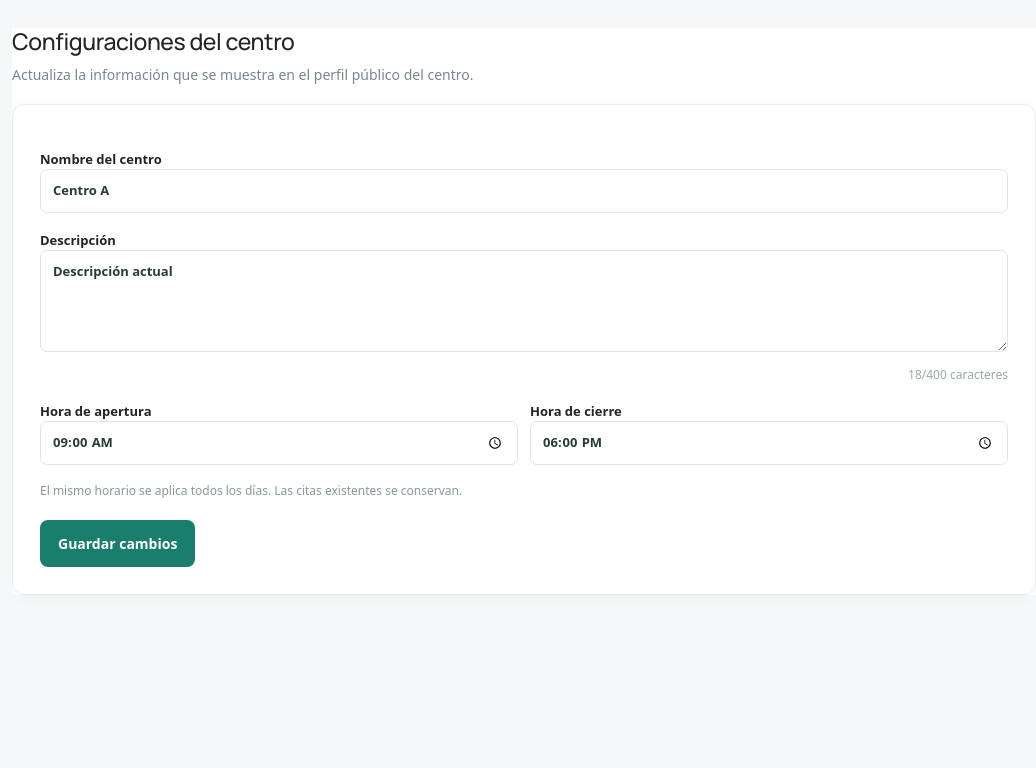
Test: keeps unsaved edits after a server error so the administrator can retry
Replace the text in the field labelled "Nombre del centro" with "Mi edición": point(524, 191) [40,169,1008,213]
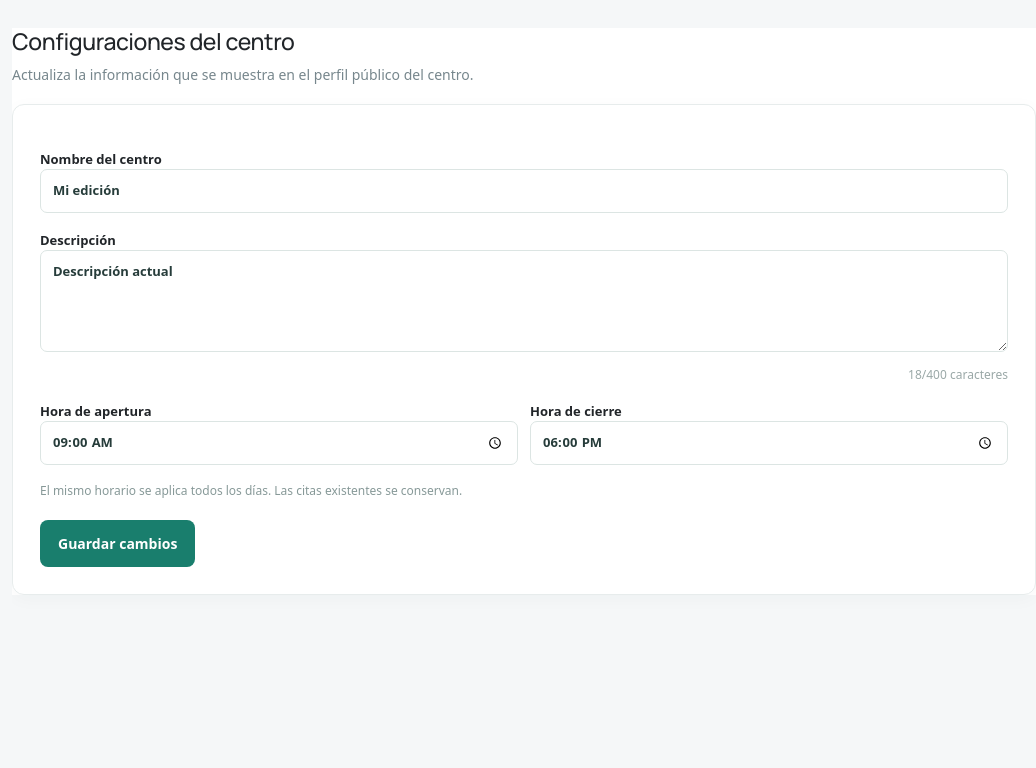
Click the button "Guardar cambios": point(118, 543) [40,520,195,567]
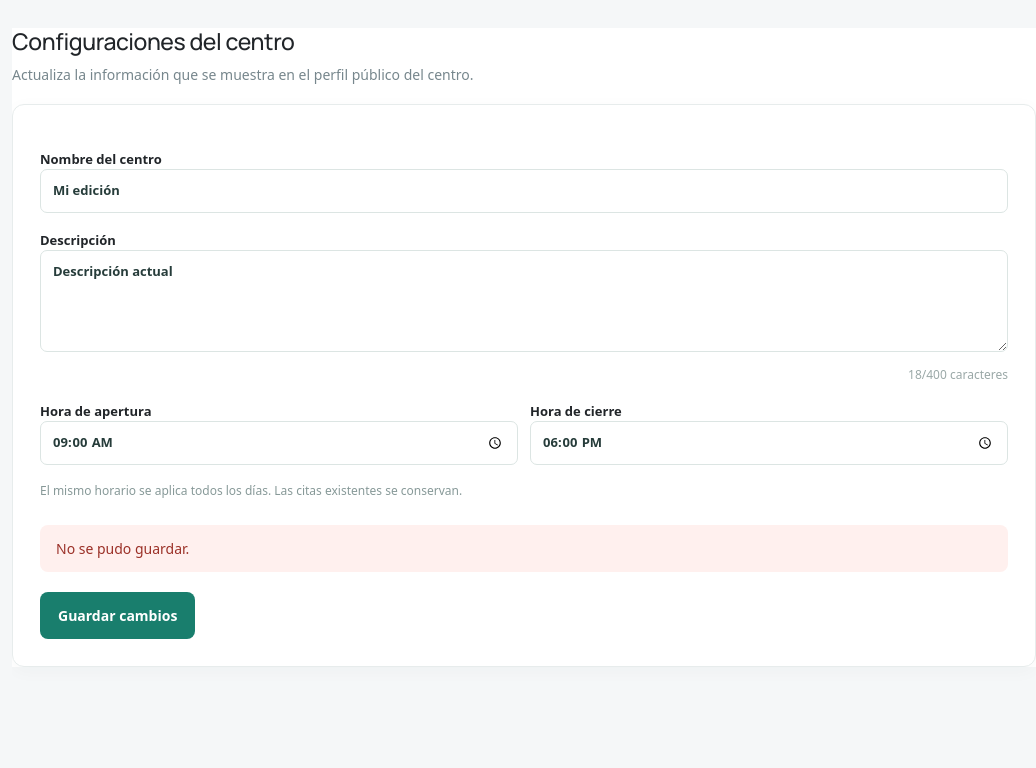
Check: the message reads "No se pudo guardar.", box [56,539,189,558]
